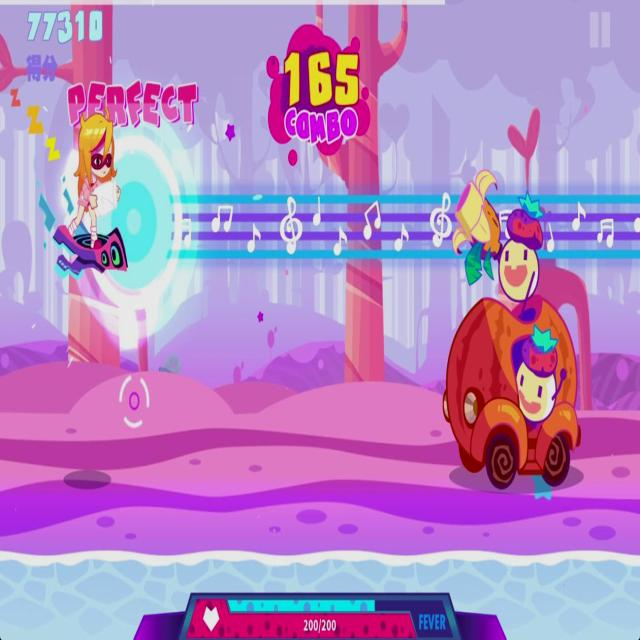cheboss: (436, 205, 584, 487)
hold: (117, 172, 640, 274)
